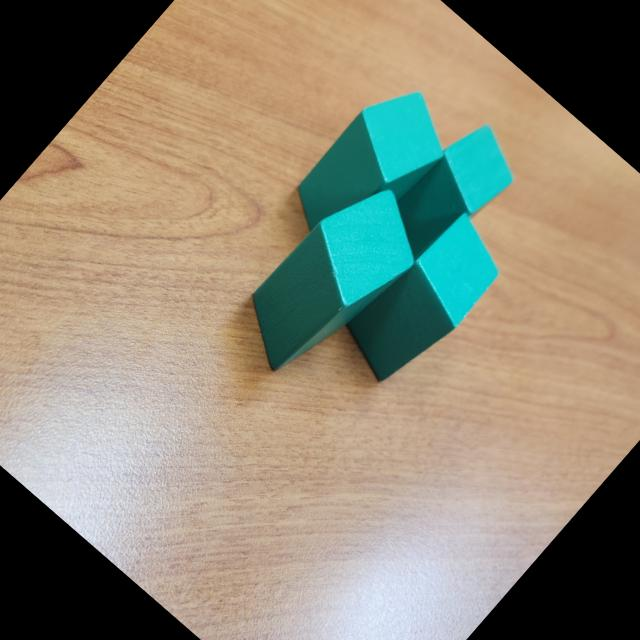green: (223, 165, 442, 396), (274, 69, 466, 270), (330, 200, 518, 398), (372, 112, 531, 279)
